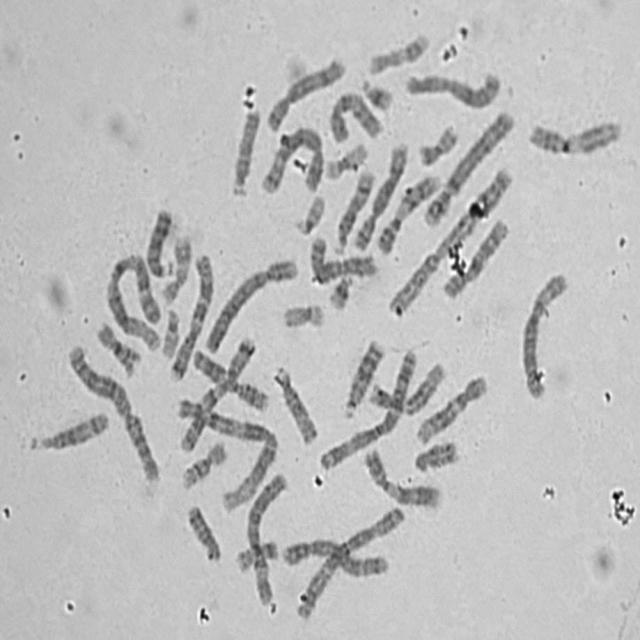A1: (173, 392, 280, 512), (101, 248, 164, 353)
A2: (383, 158, 516, 319), (63, 338, 163, 484)
A3: (292, 497, 409, 623), (315, 340, 421, 473)
B4: (420, 102, 518, 228), (199, 250, 300, 354)
B5: (276, 531, 390, 580), (256, 119, 327, 196)
C10: (437, 212, 512, 301), (324, 83, 386, 144)
C11: (188, 342, 270, 413), (523, 111, 625, 158)
C12: (411, 367, 489, 447), (365, 355, 448, 416)
C6: (515, 264, 571, 402), (243, 464, 291, 609)
C7: (175, 329, 258, 454), (164, 244, 216, 383)
C8: (346, 134, 410, 253), (262, 50, 349, 134)
C9: (371, 166, 444, 256), (359, 442, 444, 511)
D13: (338, 332, 386, 420), (141, 201, 177, 279)
D14: (327, 160, 377, 256), (25, 404, 111, 455)
D15: (270, 359, 320, 447), (225, 102, 262, 200)
E16: (175, 434, 230, 490), (92, 314, 141, 376)
E17: (363, 25, 432, 75), (158, 228, 195, 305)
E18: (182, 498, 223, 563), (410, 434, 461, 476)
F19: (320, 134, 370, 181), (278, 295, 327, 331)
F20: (414, 116, 460, 168), (231, 534, 279, 575)
G21: (356, 70, 395, 112), (324, 266, 355, 312)
G22: (290, 186, 327, 237), (157, 300, 182, 360)
X: (399, 63, 502, 110), (304, 228, 380, 284)
